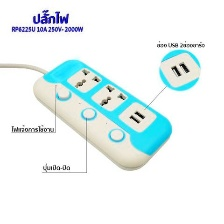three_eye_plug: (28, 53, 174, 172), (158, 48, 202, 92)
